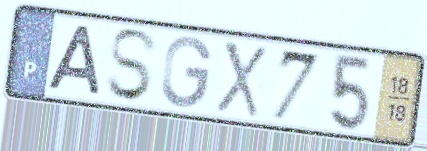5: (326, 52, 372, 135)
7: (270, 46, 323, 123)
A: (42, 22, 104, 98)
G: (159, 33, 215, 111)
S: (103, 26, 161, 104)
X: (213, 37, 270, 121)
